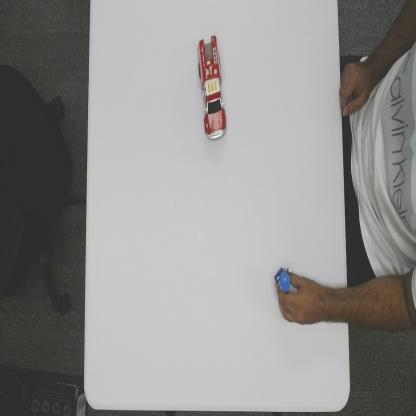Arm: (317, 284, 347, 324)
Firetruck: (196, 34, 228, 142)
Hand: (277, 274, 316, 325)
